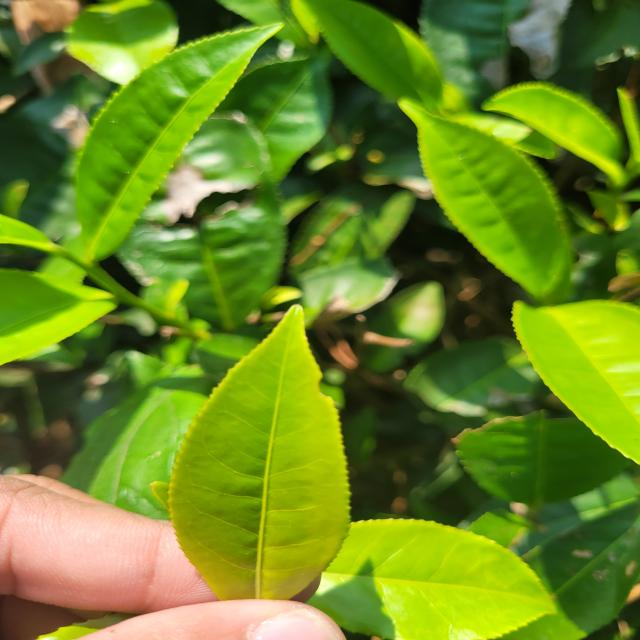Catagory A(1-2 days): (147, 295, 361, 617)
